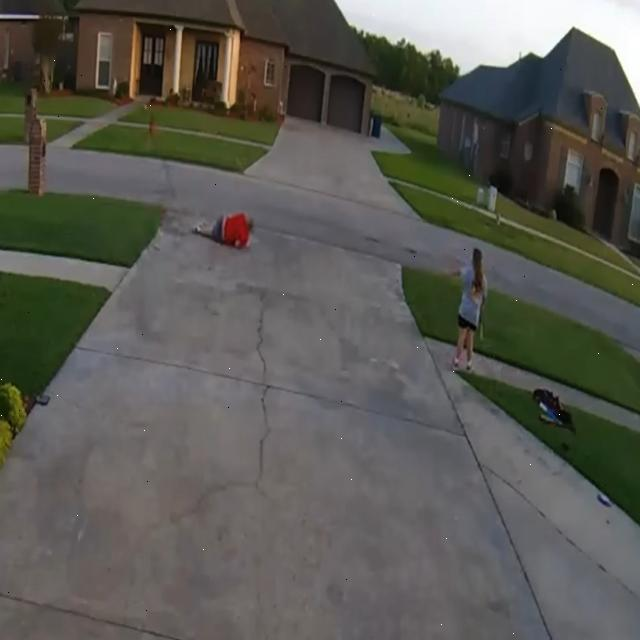fallen: (193, 212, 254, 248)
standing: (454, 248, 487, 370)
